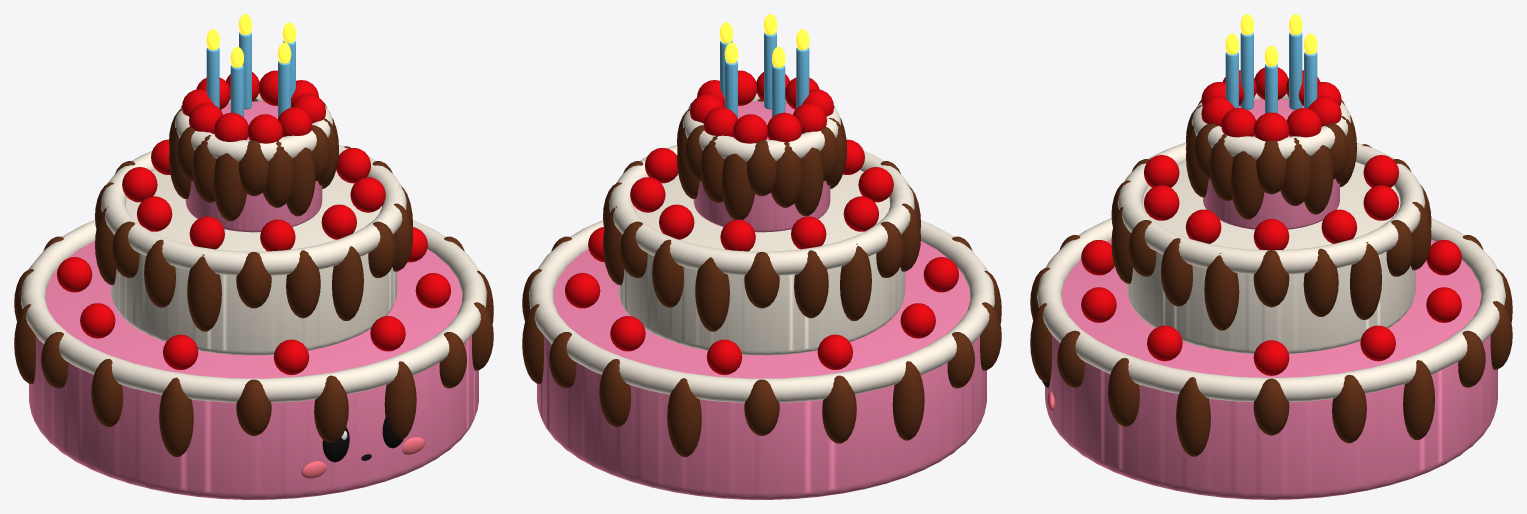
Rendered from BigCake.glb.
The picture shows the model from 3 angles, left to right: view 1: azimuth 30°, elevation 25°; view 2: azimuth 150°, elevation 25°; view 3: azimuth 270°, elevation 25°; orthographic projection.
Visible parts, largest first — view 1: Cylinder, Cylinder.001, Torus, Torus.001, Cylinder.002, Torus.002, Sphere.011, Sphere.039, Sphere.014, Sphere.042, Sphere.013, Sphere.041 (+45 smaller); view 2: Cylinder, Cylinder.001, Torus, Torus.001, Cylinder.002, Torus.002, Sphere.005, Sphere.033, Sphere.008, Sphere.036, Sphere.007, Sphere.035 (+45 smaller); view 3: Cylinder, Cylinder.001, Torus, Torus.001, Cylinder.002, Torus.002, Sphere.017, Sphere.045, Sphere.002, Sphere.030, Sphere.001, Sphere.029 (+45 smaller).
Boxes of the visible parts, x1=… form: Cylinder: x1=29, y1=241, x2=478, y2=499; Cylinder.001: x1=110, y1=170, x2=397, y2=355; Torus: x1=21, y1=220, x2=486, y2=402; Torus.001: x1=101, y1=145, x2=406, y2=275; Cylinder.002: x1=185, y1=101, x2=322, y2=232; Torus.002: x1=175, y1=93, x2=332, y2=161; Sphere.011: x1=159, y1=377, x2=193, y2=456; Sphere.039: x1=187, y1=254, x2=221, y2=331; Sphere.014: x1=384, y1=361, x2=416, y2=439; Sphere.042: x1=332, y1=246, x2=363, y2=320; Sphere.013: x1=314, y1=375, x2=348, y2=442; Sphere.041: x1=286, y1=250, x2=320, y2=318; Cylinder: x1=537, y1=241, x2=986, y2=499; Cylinder.001: x1=618, y1=170, x2=905, y2=355; Torus: x1=529, y1=220, x2=994, y2=402; Torus.001: x1=609, y1=145, x2=914, y2=275; Cylinder.002: x1=693, y1=101, x2=830, y2=232; Torus.002: x1=683, y1=93, x2=840, y2=161; Sphere.005: x1=667, y1=378, x2=701, y2=456; Sphere.033: x1=695, y1=257, x2=729, y2=331; Sphere.008: x1=892, y1=361, x2=924, y2=440; Sphere.036: x1=840, y1=243, x2=871, y2=320; Sphere.007: x1=822, y1=375, x2=856, y2=443; Sphere.035: x1=794, y1=250, x2=828, y2=318; Cylinder: x1=1045, y1=239, x2=1497, y2=499; Cylinder.001: x1=1127, y1=162, x2=1415, y2=353; Torus: x1=1037, y1=218, x2=1505, y2=401; Torus.001: x1=1117, y1=142, x2=1425, y2=274; Cylinder.002: x1=1203, y1=99, x2=1339, y2=229; Torus.002: x1=1192, y1=93, x2=1350, y2=159; Sphere.017: x1=1176, y1=377, x2=1210, y2=456; Sphere.045: x1=1204, y1=253, x2=1239, y2=330; Sphere.002: x1=1403, y1=360, x2=1434, y2=439; Sphere.030: x1=1350, y1=242, x2=1381, y2=319; Sphere.001: x1=1332, y1=375, x2=1366, y2=443; Sphere.029: x1=1303, y1=248, x2=1338, y2=316.
Size of the model in its own units: 3.56 by 3.05 by 3.51.
